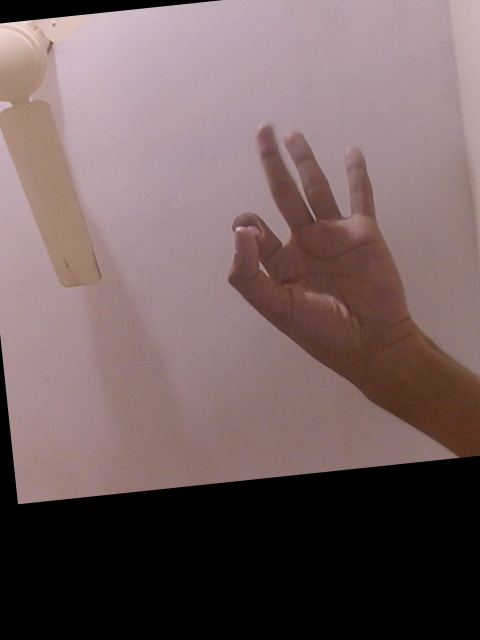hand: (215, 119, 421, 374)
